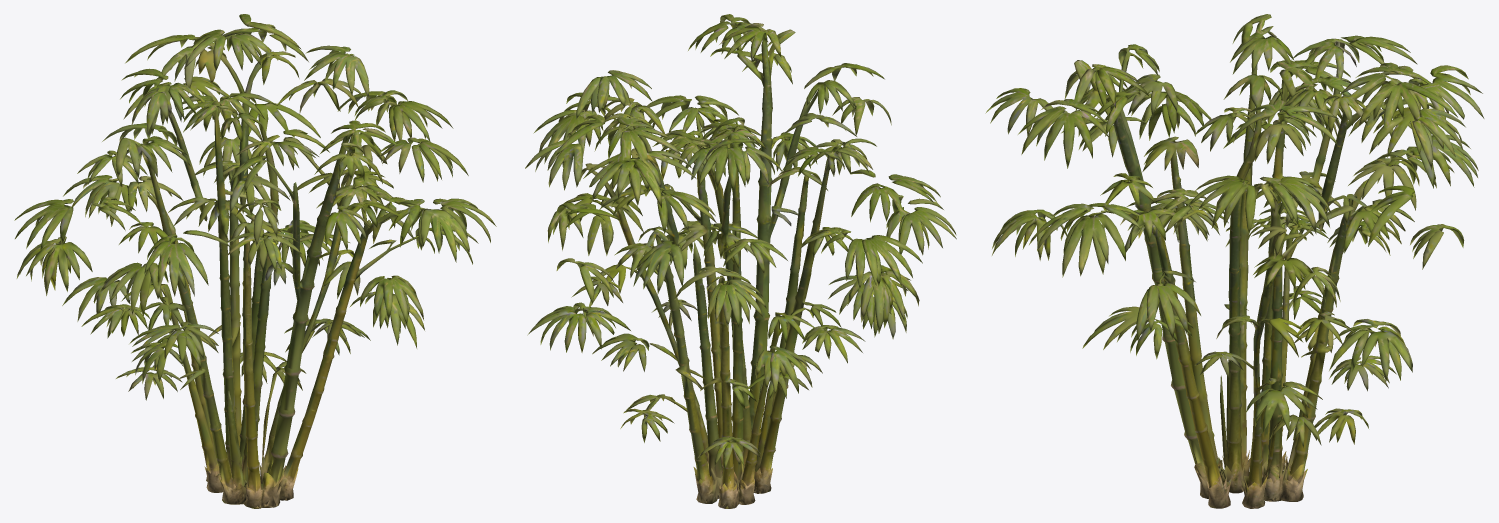
File: VillageBamboo.fbx
3 renders of one model, left to right at view 1: azimuth 30°, elevation 25°; view 2: azimuth 150°, elevation 25°; view 3: azimuth 270°, elevation 25°, orthographic. The views are drawn at different scales.
Visible parts, largest first — view 1: Mesh_0; view 2: Mesh_0; view 3: Mesh_0.
Boxes of the visible parts, x1,y1,x2,y2 form: Mesh_0: (14,14,496,508); Mesh_0: (525,14,956,508); Mesh_0: (985,14,1484,508).
Bounding box in the file's own units: 90.16 × 88.93 × 89.73.
Materials: 1 (1 with a texture image).
